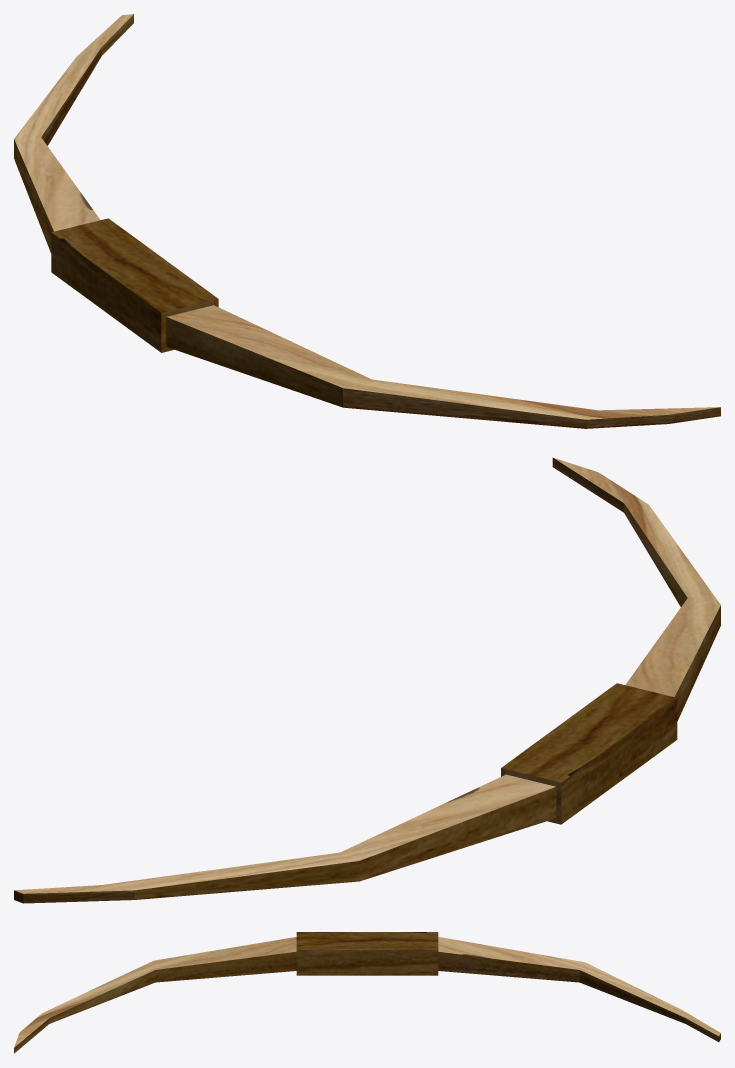
Rendered from bow_2.obj.
The picture shows the model from 3 angles, top to bottom: view 1: azimuth 30°, elevation 25°; view 2: azimuth 150°, elevation 25°; view 3: azimuth 270°, elevation 25°; orthographic projection. The views are drawn at different scales.
Parts seen in each view (by area): view 1: Cube; view 2: Cube; view 3: Cube.
Part boxes in pixels (x1,y1,x2,y2): Cube: (14, 14, 720, 428); Cube: (14, 457, 720, 903); Cube: (14, 932, 720, 1053).
Bounding box in the file's own units: 0.71 × 0.08 × 2.
Materials: 1 (1 with a texture image).
